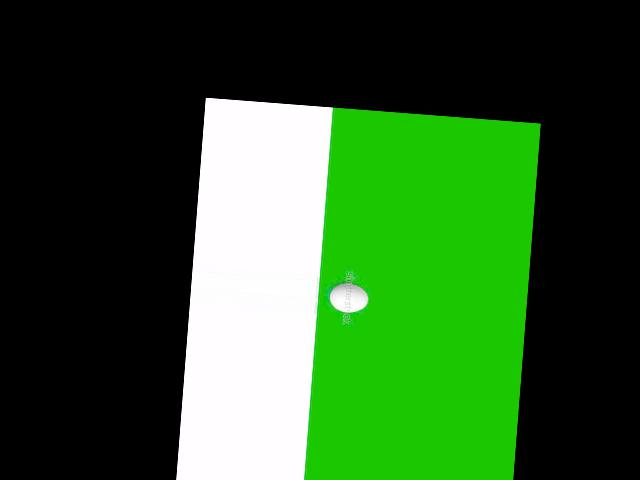egg: (328, 282, 369, 314)
